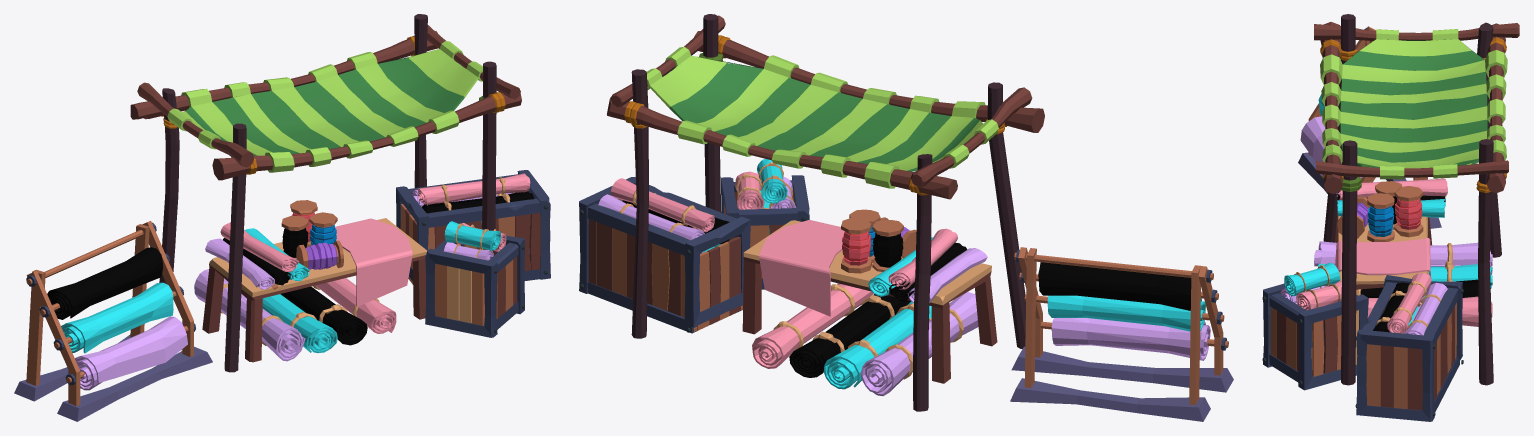
File: Market Weaver Stand.fbx
The picture shows the model from 3 angles, left to right: view 1: azimuth 30°, elevation 25°; view 2: azimuth 150°, elevation 25°; view 3: azimuth 270°, elevation 25°; orthographic projection. The views are drawn at different scales.
Parts seen in each view (by area): view 1: Market Weaver Stand; view 2: Market Weaver Stand; view 3: Market Weaver Stand.
Part boxes in pixels (bbox=[...]): Market Weaver Stand: bbox=[14, 14, 550, 421]; Market Weaver Stand: bbox=[579, 14, 1233, 421]; Market Weaver Stand: bbox=[1262, 14, 1519, 421].
Size of the model in its own units: 726 by 306 by 294.
